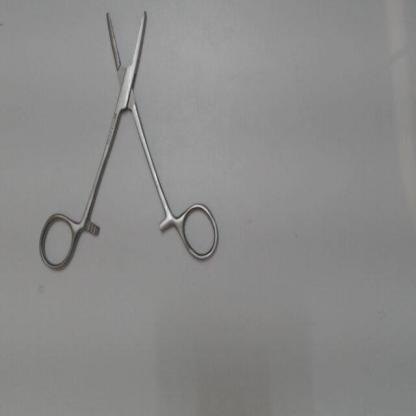Mayo Needle Holder: (31, 5, 223, 276)
